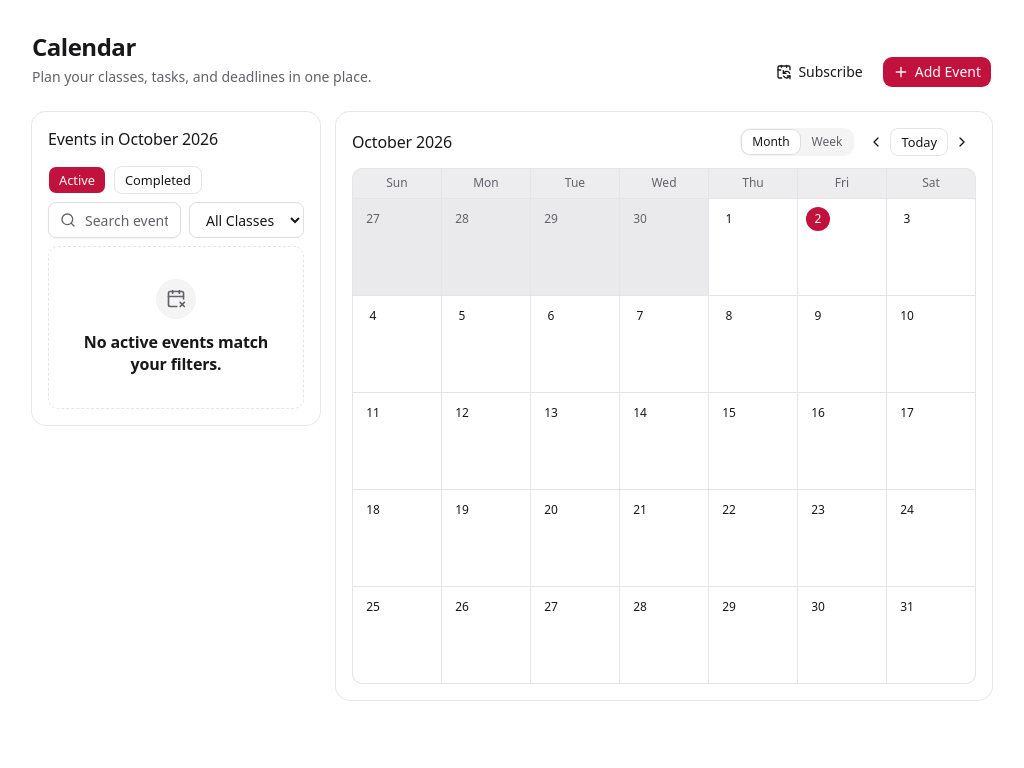
Scenario: CalendarPage › keeps the form open and explains a missing title
The image size is (1024, 768).
Click the button "Add Event": (937, 72) x1=882 y1=56 x2=992 y2=88
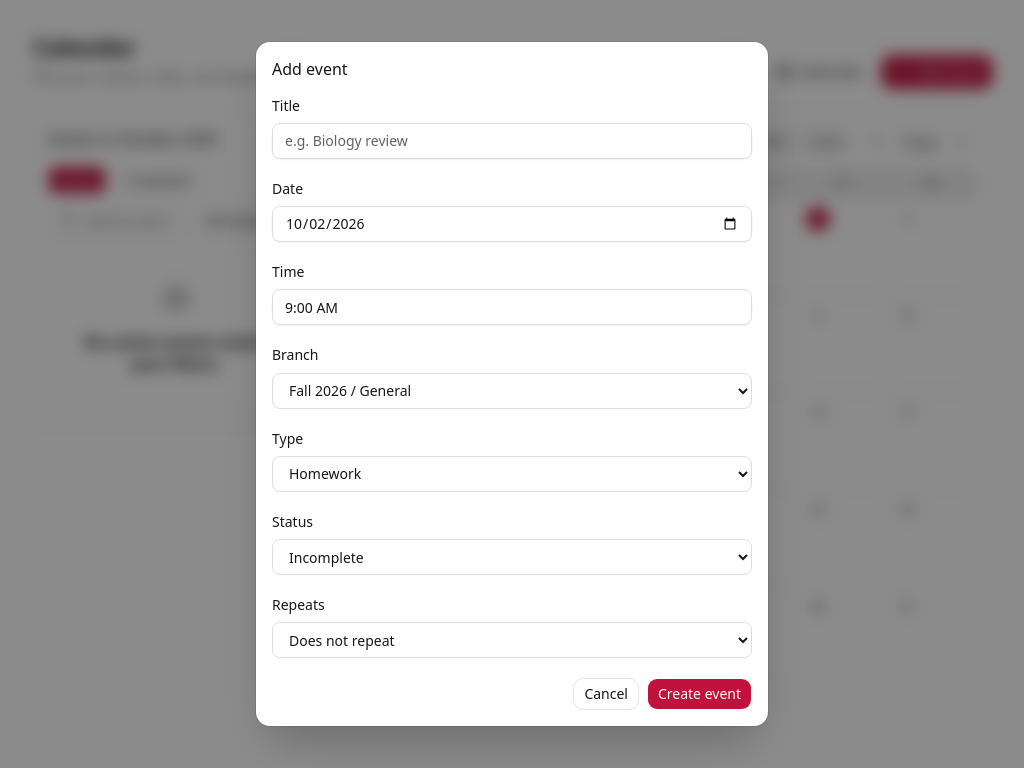
Click the button "Create event": (700, 694) x1=647 y1=678 x2=752 y2=710
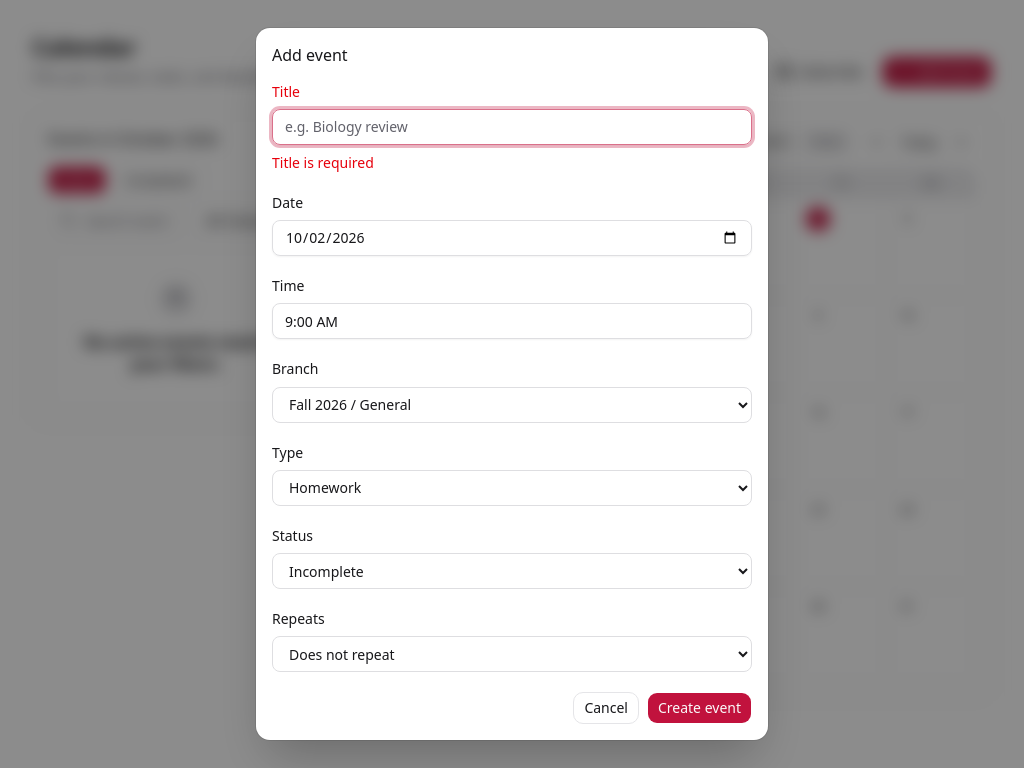
Check: the button "Create event" is shown, box x1=647 y1=692 x2=752 y2=724
Check: the text "Title is required" is shown, box x1=272 y1=153 x2=374 y2=172
